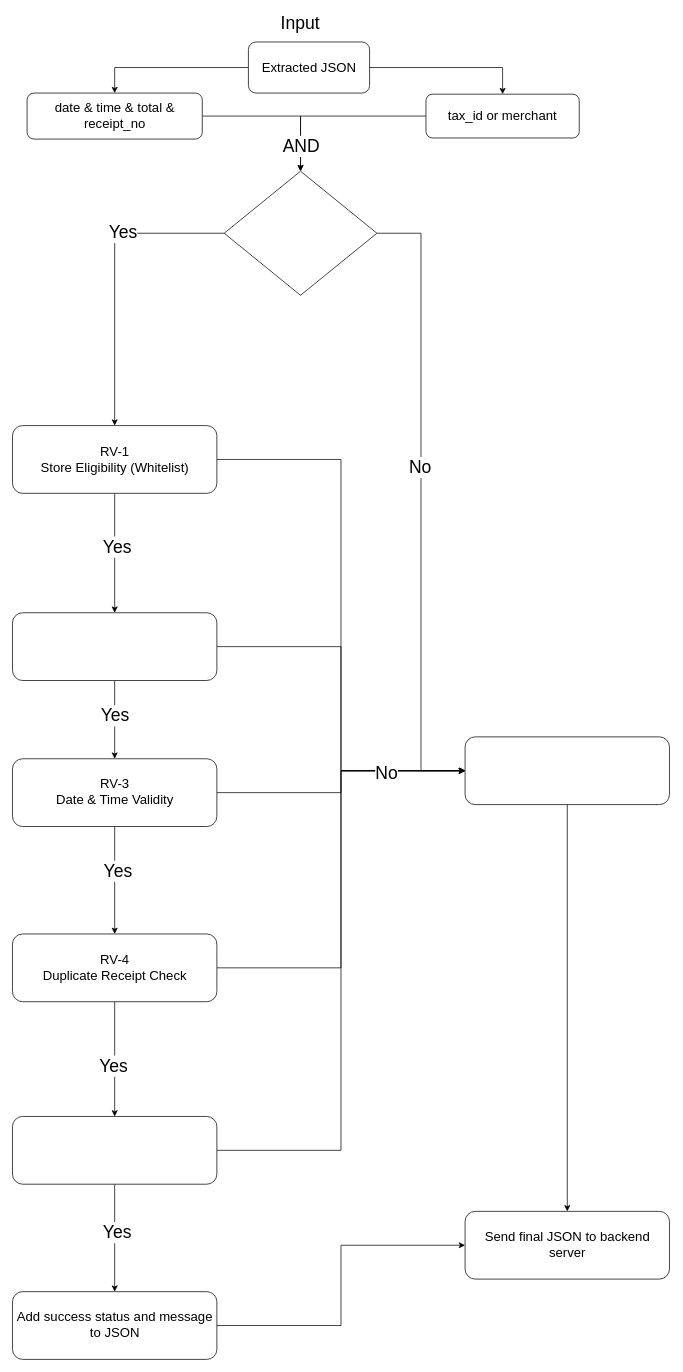
The diagram is 683 pixels wide and 1372 high, and some of its shapes have lost their labels. Here are the shapes that lost their labels. From the top down, the centre of each, then its label:
the point at 300,232: Do those fields above not null ?
the point at 114,646: RV-2 Location Validity
the point at 566,770: Add reject status and meessage to JSON
the point at 114,1150: RV-5 Document type validity
